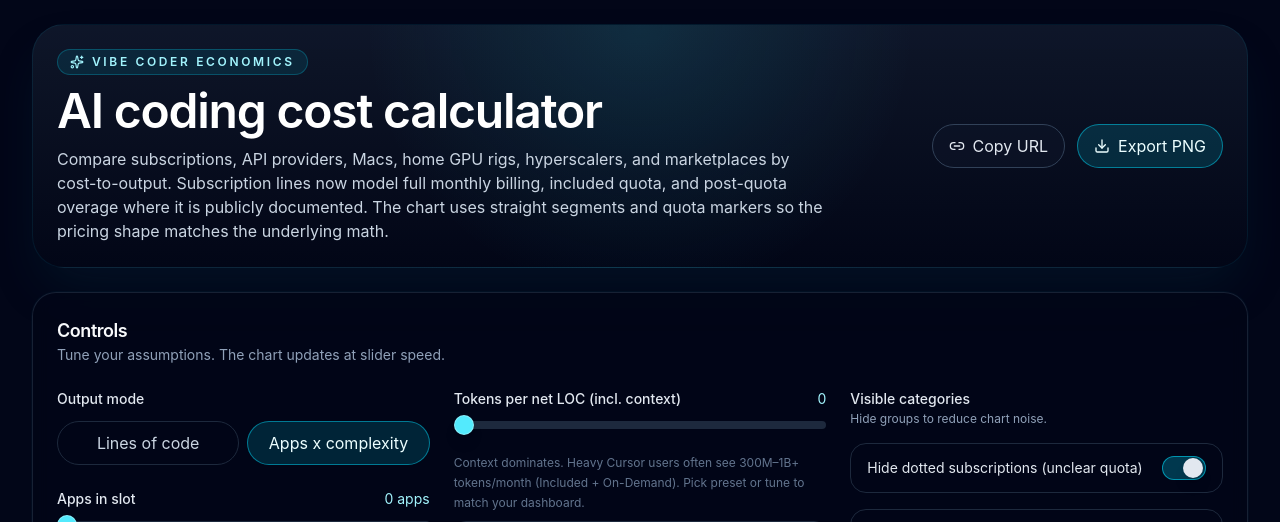
Test: App › copies the current URL
Click the button "Copy URL": click(998, 146) x1=932 y1=124 x2=1065 y2=168
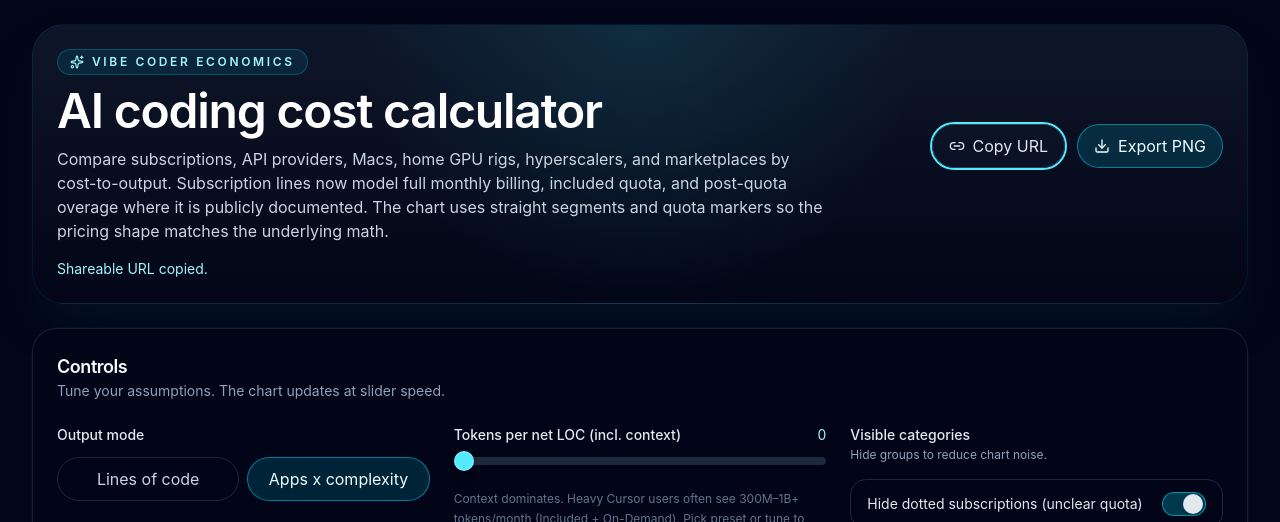
Expected: the text "Shareable URL copied." is shown, x1=57 y1=260 x2=208 y2=277
